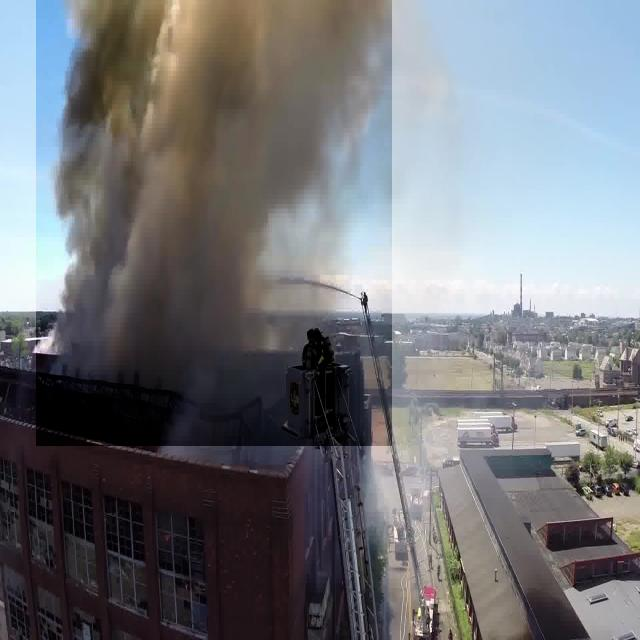Smoke: (36, 0, 392, 446)
